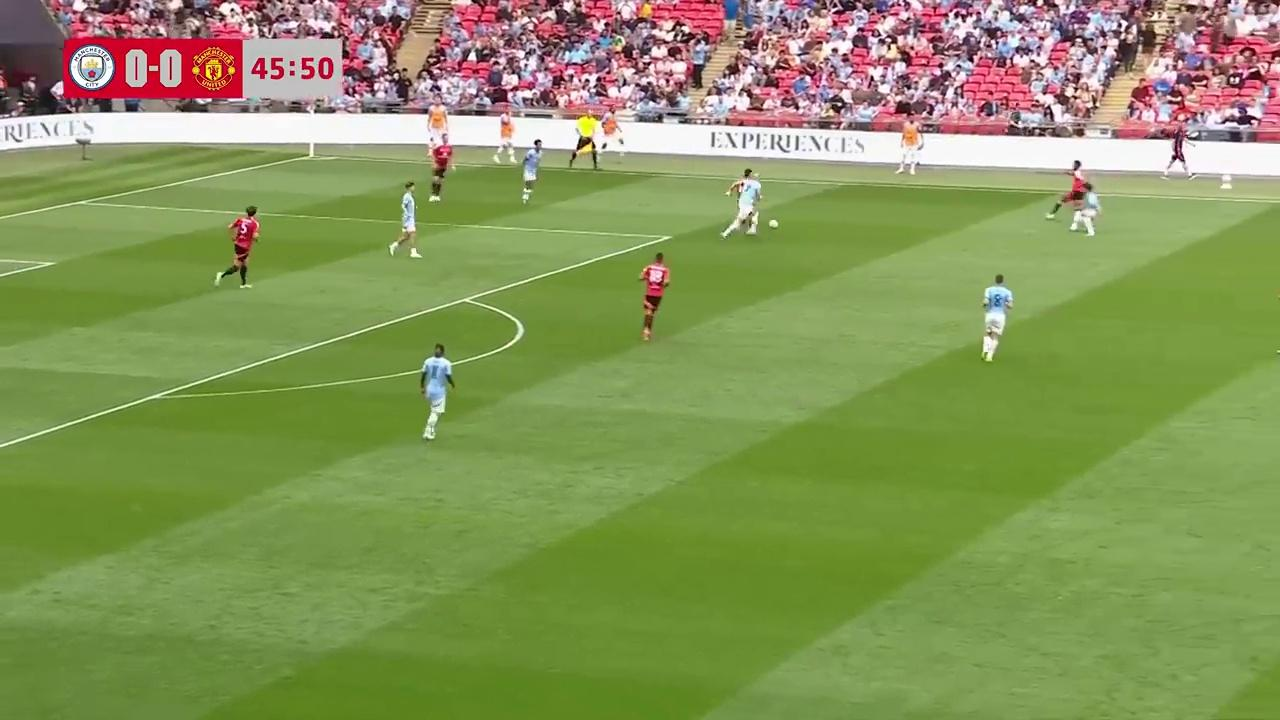ball: (767, 217, 780, 230)
player: (214, 206, 260, 289), (418, 343, 456, 441), (720, 170, 762, 239), (981, 273, 1013, 362), (638, 252, 670, 340), (389, 181, 421, 258), (1046, 161, 1086, 218), (1069, 184, 1101, 236), (428, 137, 449, 201), (521, 140, 541, 205)
referee: (569, 119, 600, 171)
